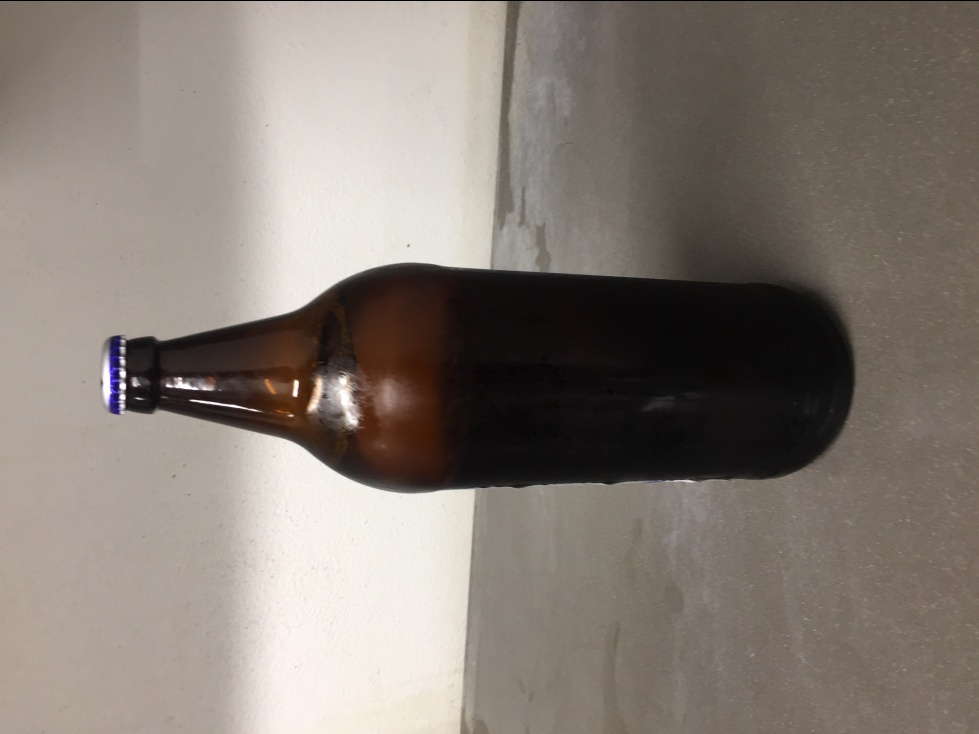tecateC: (99, 259, 857, 487)
